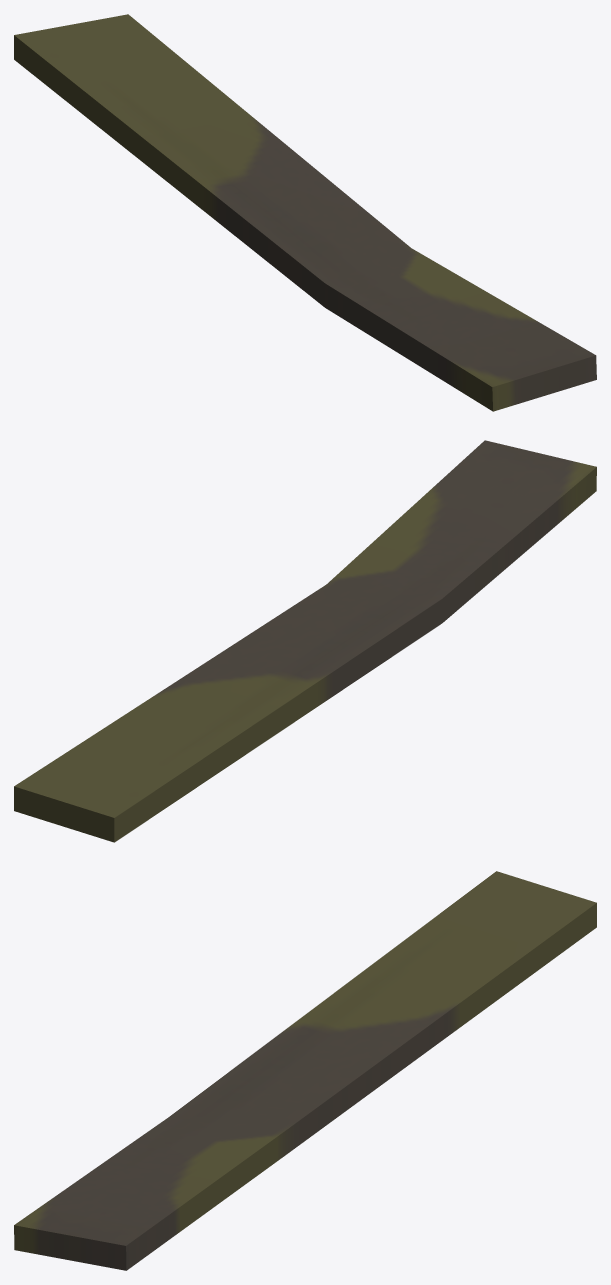
Rendered from SM_Bld_Dock_Plank_08.fbx.
The picture shows the model from 3 angles, top to bottom: view 1: azimuth 30°, elevation 25°; view 2: azimuth 150°, elevation 25°; view 3: azimuth 330°, elevation 25°; orthographic projection.
Visible parts, largest first — view 1: SM_Bld_Dock_Plank_08; view 2: SM_Bld_Dock_Plank_08; view 3: SM_Bld_Dock_Plank_08.
Boxes of the visible parts, x1=… form: SM_Bld_Dock_Plank_08: x1=14, y1=14, x2=596, y2=411; SM_Bld_Dock_Plank_08: x1=14, y1=440, x2=596, y2=842; SM_Bld_Dock_Plank_08: x1=14, y1=871, x2=596, y2=1270.
Size of the model in its own units: 35.07 by 11.44 by 253.
1 material, 1 textured.
